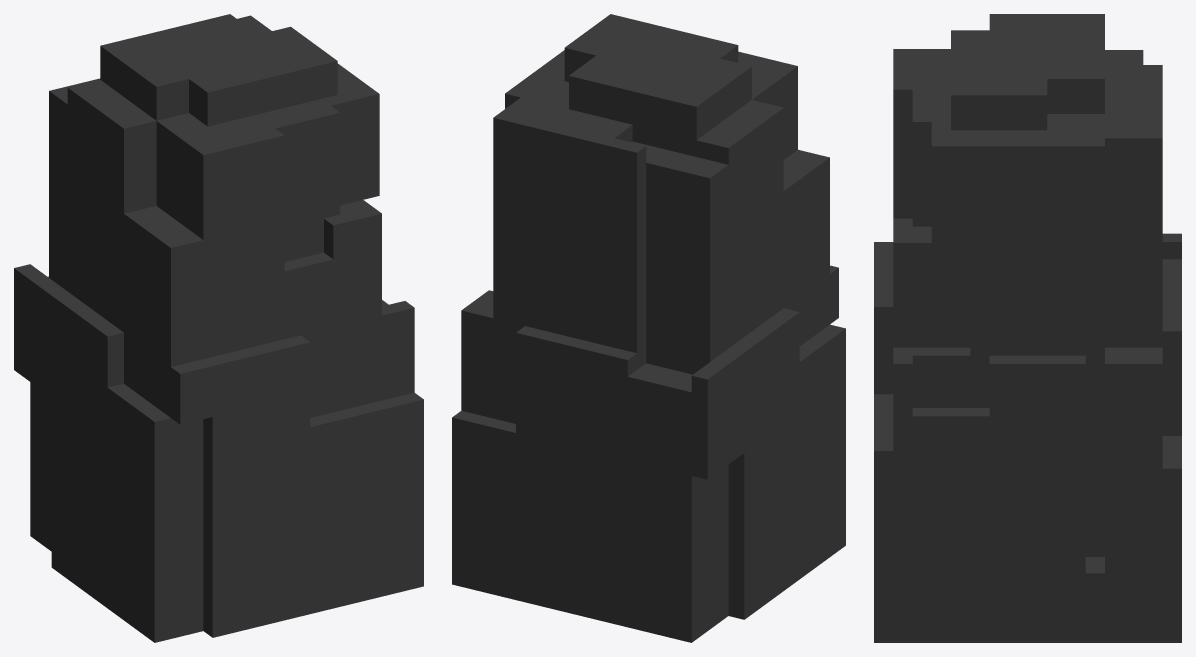
The model's file is hard_rock.obj.
3 views of the same model, side by side, from view 1: azimuth 30°, elevation 25°; view 2: azimuth 150°, elevation 25°; view 3: azimuth 270°, elevation 25° (orthographic). The views are drawn at different scales.
Bounding box in the file's own units: 1.6 × 3 × 1.6.
1 material, 1 textured.
